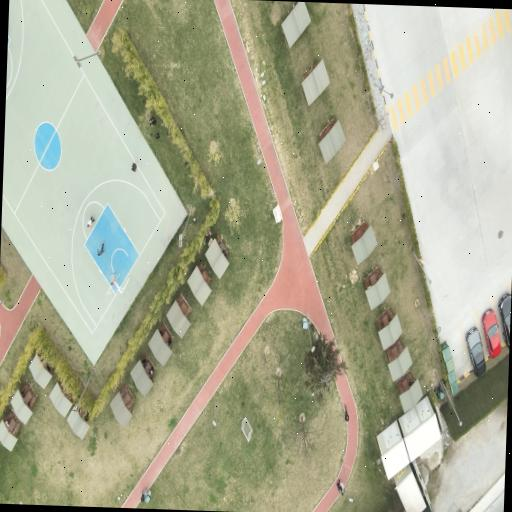car: (481, 309, 501, 357), (465, 327, 485, 375), (497, 293, 510, 346)
person: (97, 241, 104, 255), (337, 478, 342, 494), (110, 272, 116, 285), (86, 217, 93, 227), (148, 116, 155, 125), (344, 406, 348, 421), (130, 162, 136, 171), (140, 490, 144, 502), (154, 132, 160, 140)
